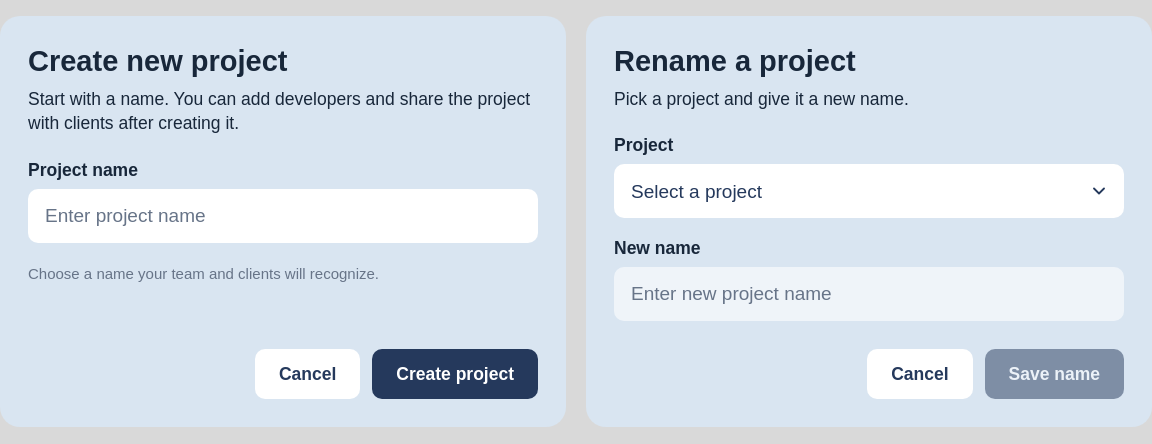
Scenario: Creating projects › clears the create form when Cancel is clicked
Step 1. Type "Temporary Project" into the field labelled "Project name" → (283, 216), box [28, 189, 538, 243]
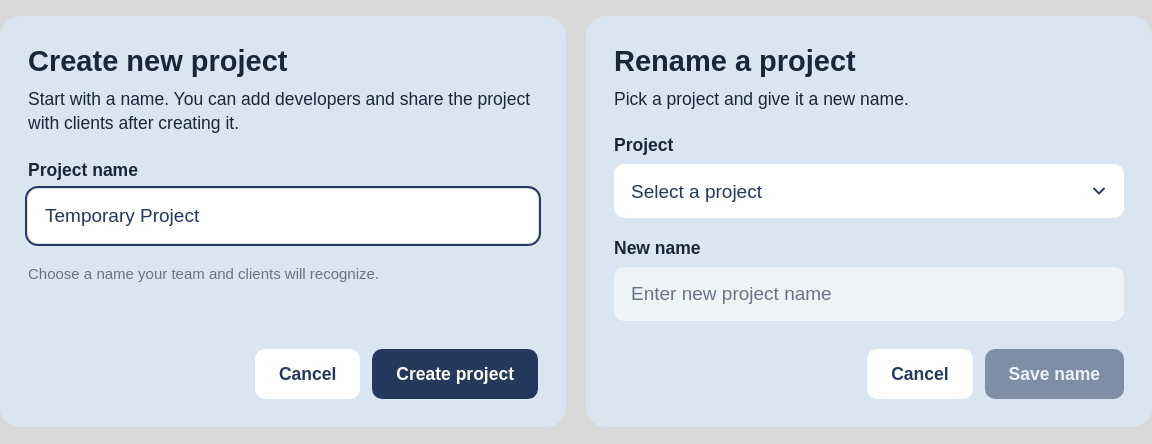
Step 2. Click the button "Cancel" below "Project name" → (308, 374), box [255, 349, 360, 399]
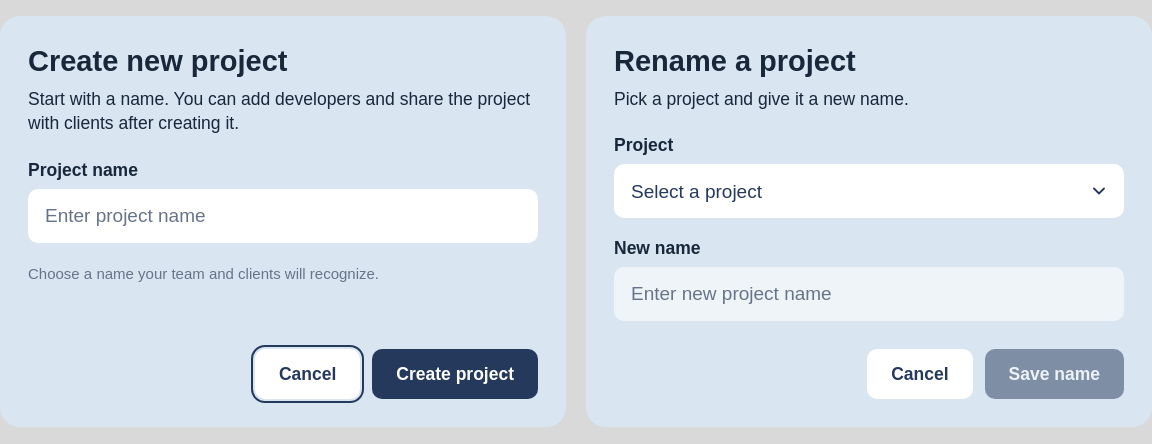
Expected: the field labelled "Project name" is empty, [28, 189, 538, 243]
